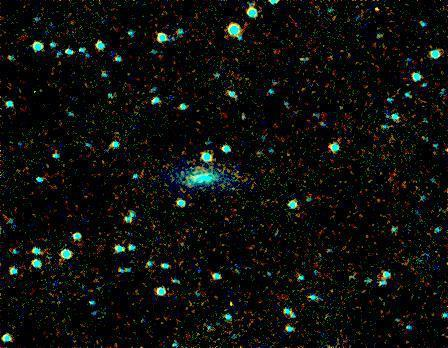star: (360, 0, 390, 22)
